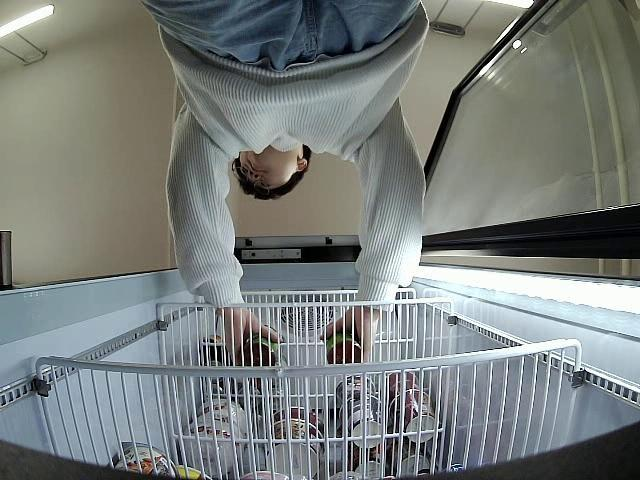19_17cha: (238, 326, 282, 372), (324, 325, 363, 363)
